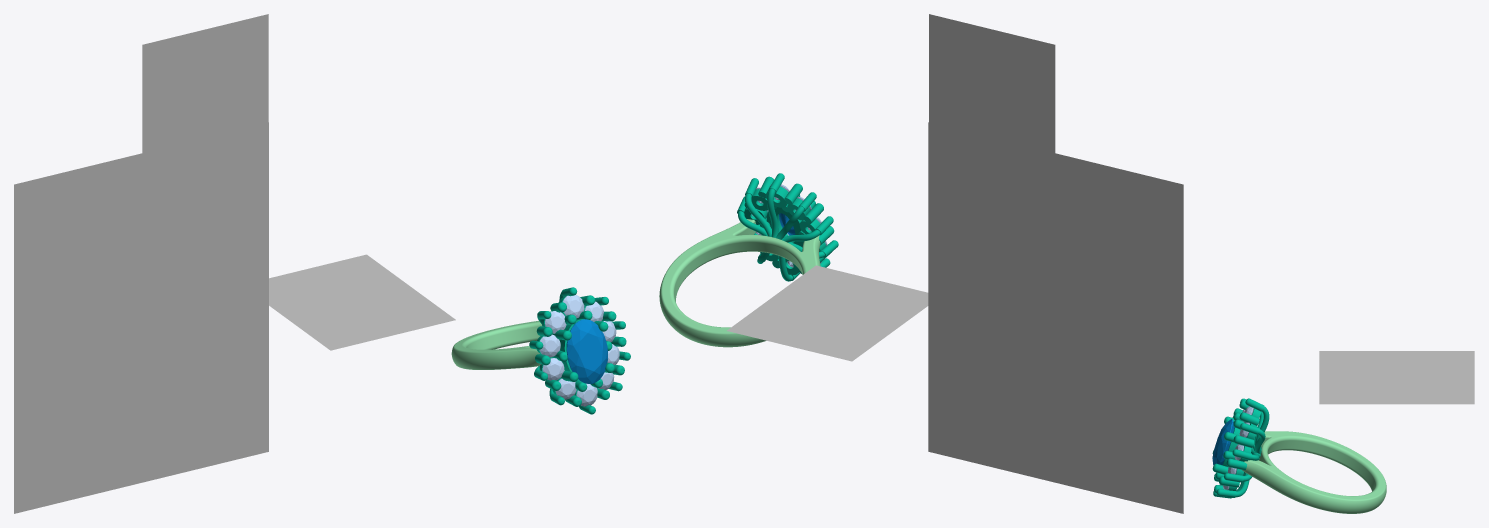
The picture shows the model from 3 angles, left to right: view 1: azimuth 30°, elevation 25°; view 2: azimuth 150°, elevation 25°; view 3: azimuth 270°, elevation 25°; orthographic projection. The views are drawn at different scales.
Visible parts, largest first — view 1: VR328(BASE).3dm, Diamond_Oval; view 2: VR328(BASE).3dm; view 3: VR328(BASE).3dm, Diamond_Oval.
Boxes of the visible parts, left/top/right/bottom form: VR328(BASE).3dm: left=14, top=14, right=630, bottom=513; Diamond_Oval: left=566, top=319, right=607, bottom=383; VR328(BASE).3dm: left=659, top=14, right=1183, bottom=513; VR328(BASE).3dm: left=1213, top=351, right=1474, bottom=513; Diamond_Oval: left=1212, top=419, right=1234, bottom=465.
Size of the model in its own units: 8.83 by 6.69 by 4.19.
